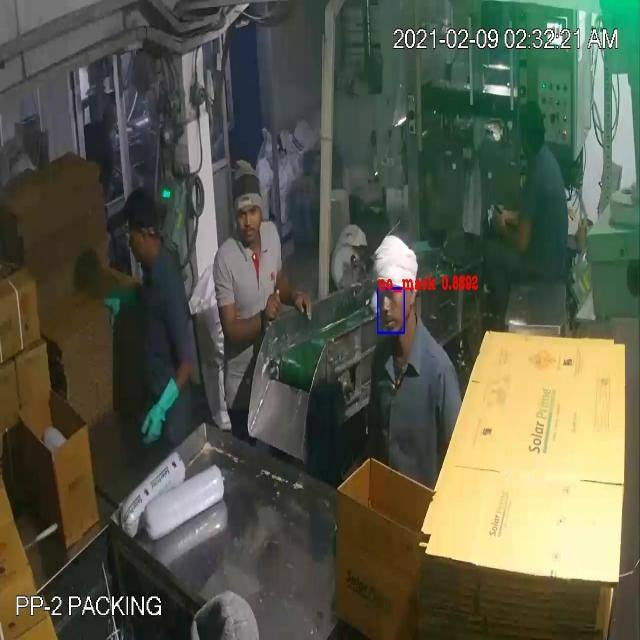Gloves: (47, 62, 513, 412)
